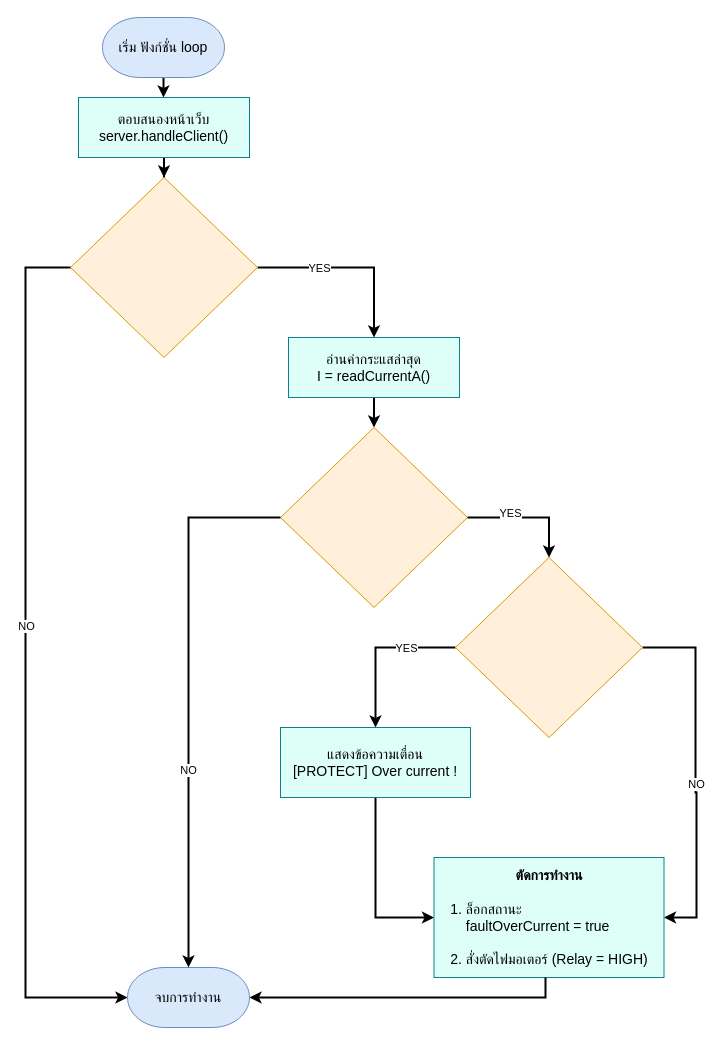
This 722x1045 diagram has some shape labels left out. The shapes that lost their labels are listed below. From the top down, each one's box as (x1, y1, x2, y2) in pixels, then its label:
(70, 176, 258, 358): เวลาผ่านไปครบ 500 ms (ครึ่งวินาที) หรือยัง ?
(280, 426, 468, 608): กระแส (I) สูงเกิน (CURRENT_LIMIT_A) หรือไม่?
(454, 556, 642, 738): เพิ่งเกิด Overcurrent ครั้งแรกใช่ไหม?
